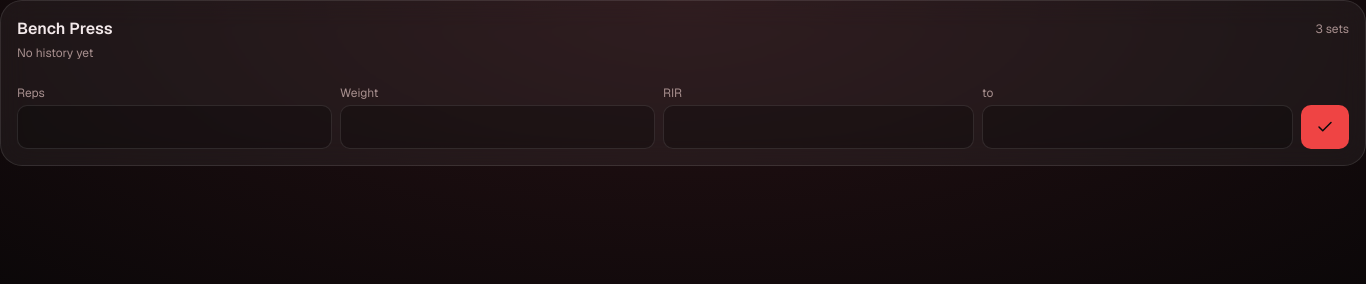
RIR input › shows an error and does not log a reversed range
The width and height of the screenshot is (1366, 284).
Step 1. Type "8" into the field labelled "Reps" → (174, 127), box [17,105,332,149]
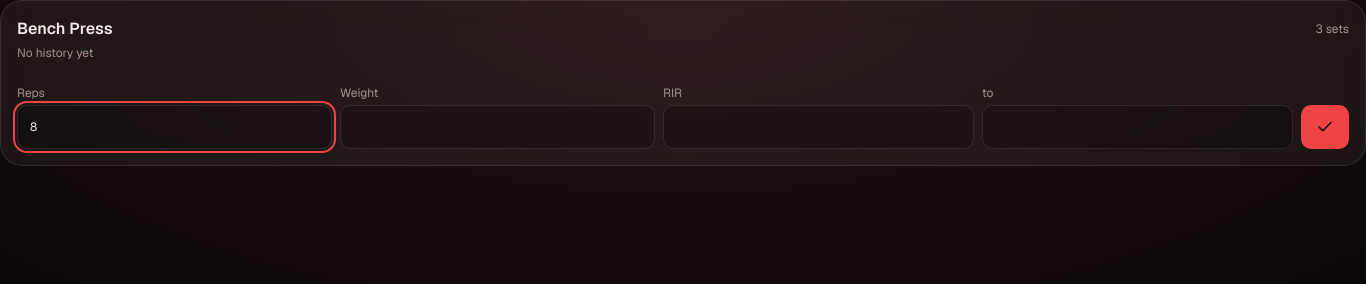
Step 2. Type "135" into the field labelled "Weight" → (498, 127), box [340,105,655,149]
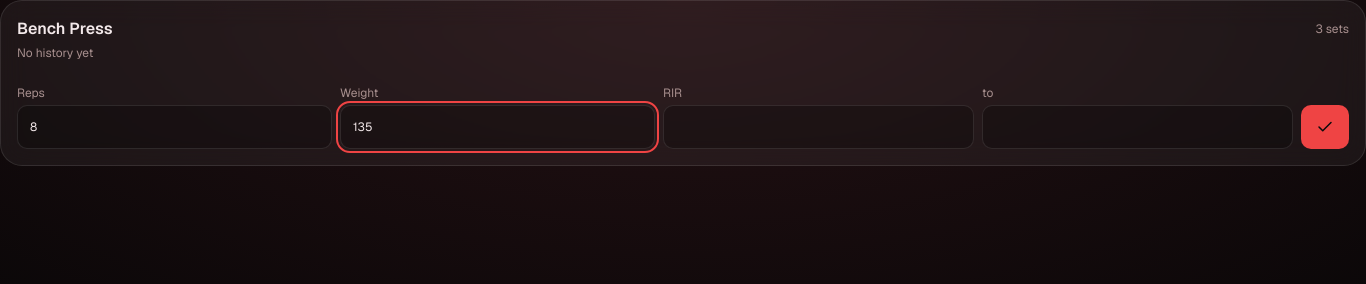
Step 3. Type "3" into the field labelled "RIR" → (818, 127), box [663,105,974,149]
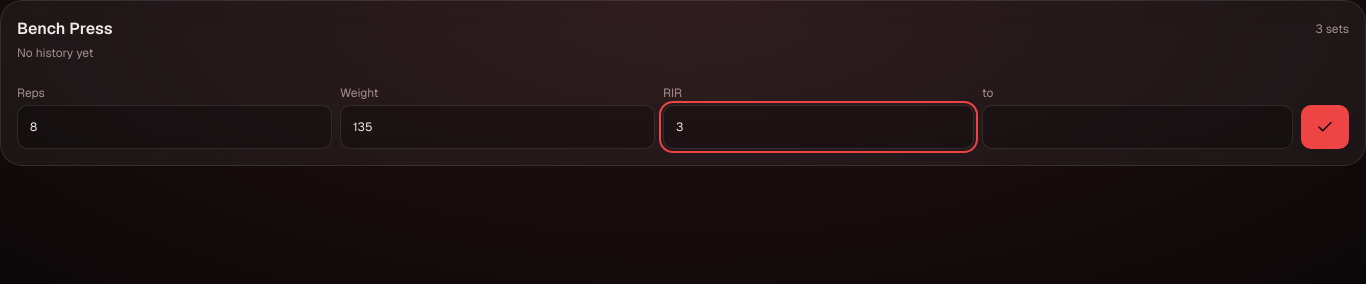
Step 4. Type "1" into the field named "highest reps in reserve" → (1138, 127), box [982,105,1293,149]
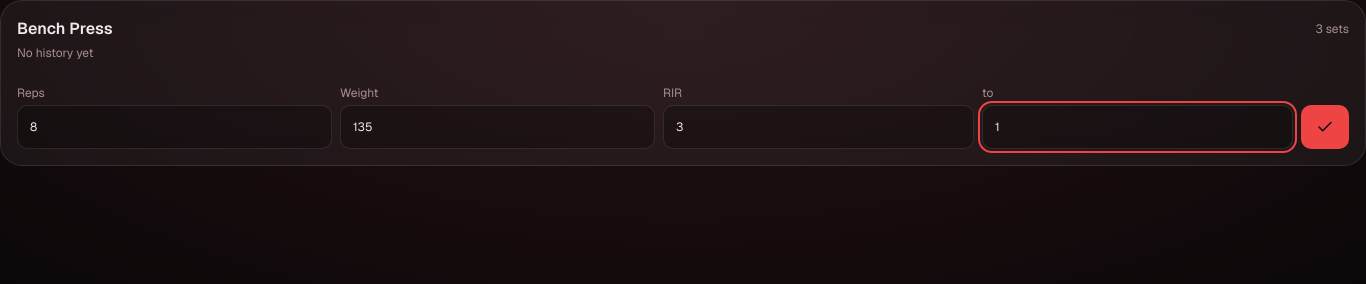
Step 5. Click the button named "log set" → (1325, 127), box [1301,105,1349,149]
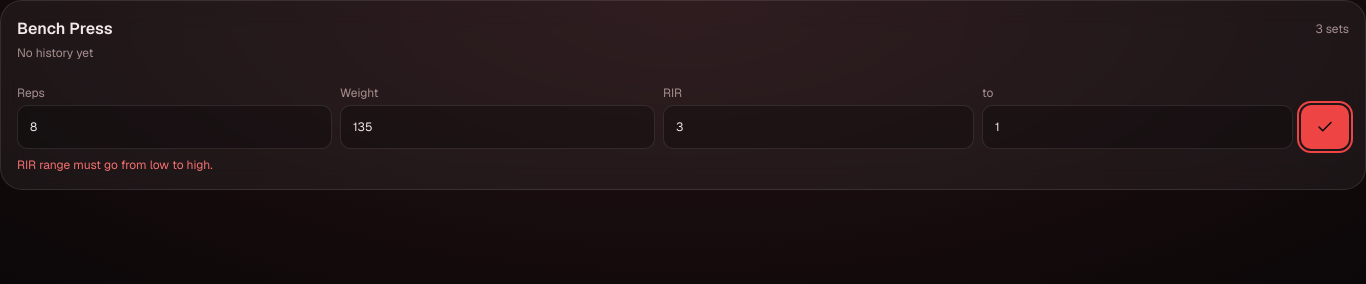
Expected: the message shows "low to high", [17,157,213,173]
